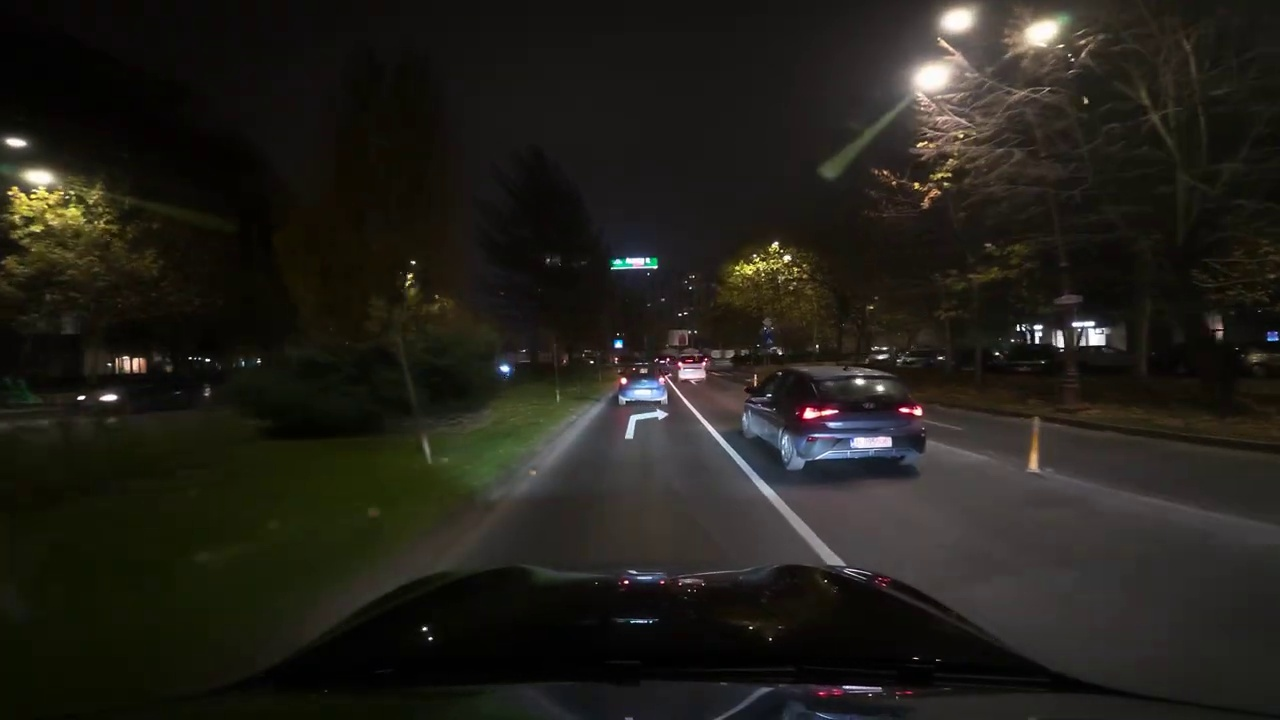acesa: (912, 60, 954, 96), (1021, 16, 1062, 50), (939, 6, 976, 38)
